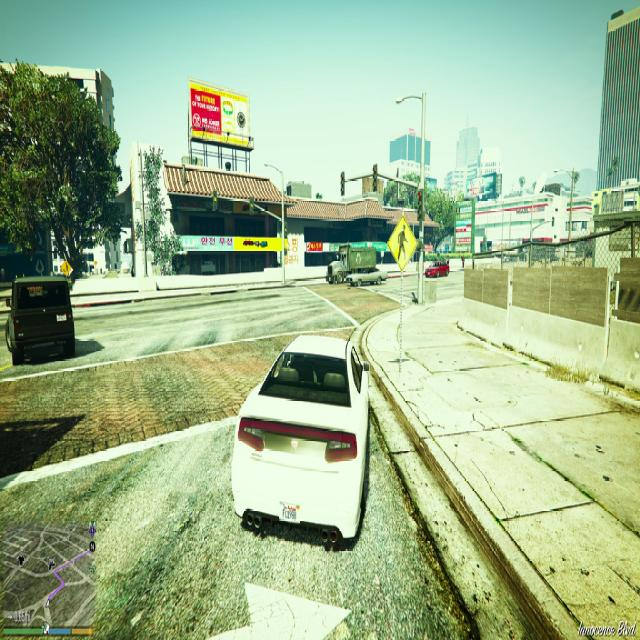car: (228, 316, 373, 538), (6, 273, 75, 359), (347, 262, 387, 281), (424, 256, 448, 276)
